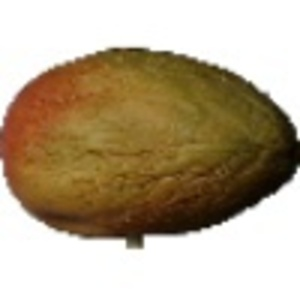mamão: (1, 41, 297, 237)
